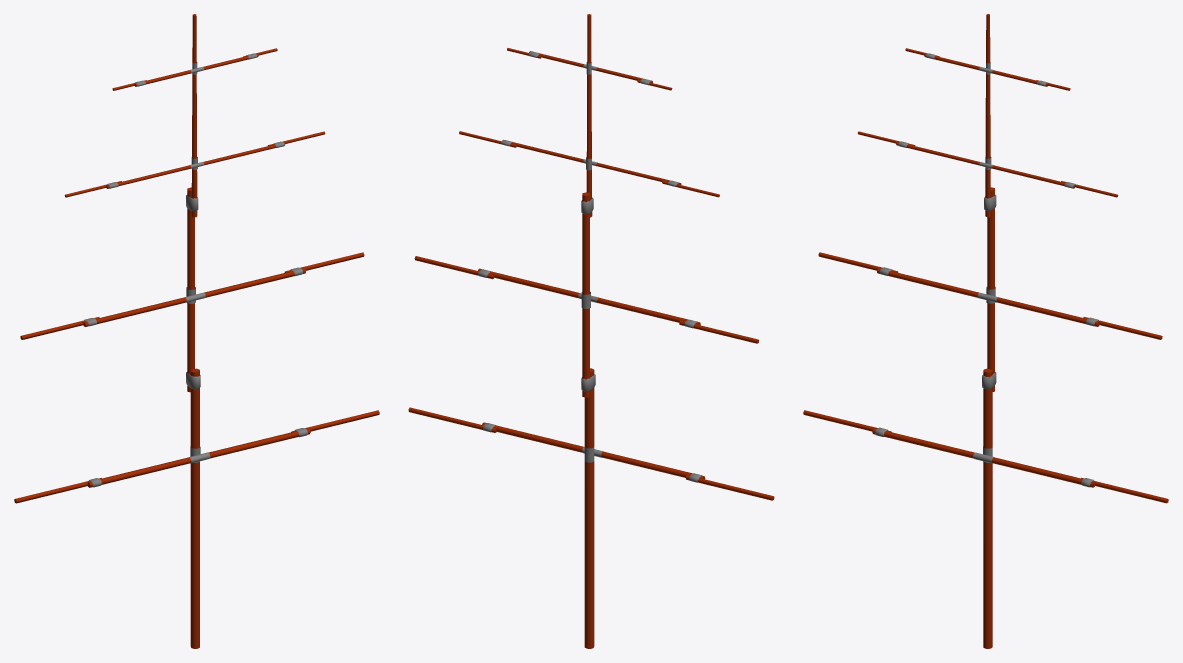
The model's file is mast.fbx.
The picture shows the model from 3 angles, left to right: view 1: azimuth 30°, elevation 25°; view 2: azimuth 150°, elevation 25°; view 3: azimuth 330°, elevation 25°; orthographic projection.
Visible parts, largest first — view 1: Mast; view 2: Mast; view 3: Mast.
Boxes of the visible parts, left/top/right/bottom form: Mast: left=14, top=14, right=379, bottom=648; Mast: left=408, top=14, right=774, bottom=648; Mast: left=803, top=14, right=1168, bottom=648.
Size of the model in its own units: 26.57 by 1.55 by 44.17.
